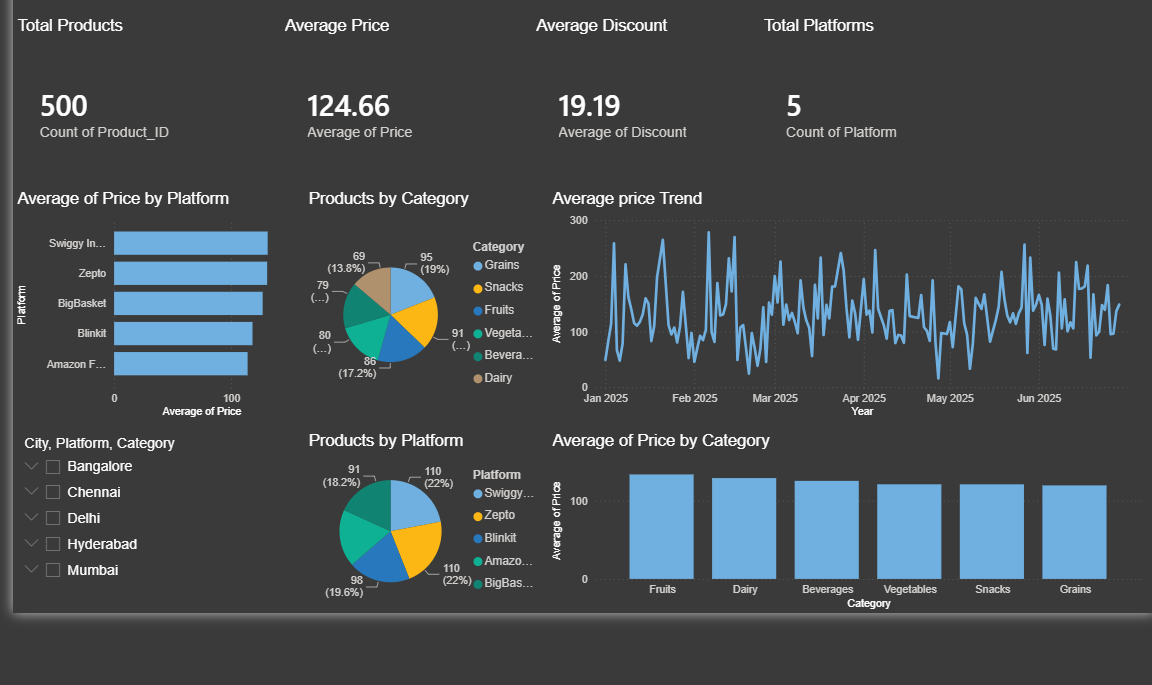

This screenshot's page, from the dashboard's own definition file:
{"tool":"powerbi","page":{"name":"Page 1","canvas":[1280,720],"ordinal":0},"visuals":[{"type":"cardVisual","title":"Total Products","fields":{"Data":["CountNonNull(cleaned_grocery_prices.Product_ID)"]},"box":[0,49.4,255.2,194.9],"z":0},{"type":"cardVisual","title":"Average Price","fields":{"Data":["Avg(cleaned_grocery_prices.Price)"]},"box":[300.5,49.4,281.3,194.9],"z":1000},{"type":"cardVisual","title":"Average Discount","fields":{"Data":["Avg(cleaned_grocery_prices.Discount)"]},"box":[581.8,49.4,264.8,194.9],"z":2000},{"type":"cardVisual","title":"Total Platforms","fields":{"Data":["Count(cleaned_grocery_prices.Platform)"]},"box":[837.1,49.4,293.7,194.9],"z":3000},{"type":"clusteredBarChart","fields":{"Category":["cleaned_grocery_prices.Platform"],"Y":["Avg(cleaned_grocery_prices.Price)"]},"box":[0,244.3,326.6,260.7],"z":4000},{"type":"pieChart","title":"Products by Category","fields":{"Category":["cleaned_grocery_prices.Category"],"Y":["CountNonNull(cleaned_grocery_prices.Product_ID)"]},"box":[326.6,244.3,273.1,260.7],"z":5000},{"type":"lineChart","title":"Average price Trend","fields":{"Y":["Avg(cleaned_grocery_prices.Price)"],"Category":["cleaned_grocery_prices.Date.Variation.Date Hierarchy.Year","cleaned_grocery_prices.Date.Variation.Date Hierarchy.Quarter","cleaned_grocery_prices.Date.Variation.Date Hierarchy.Month","cleaned_grocery_prices.Date.Variation.Date Hierarchy.Day"]},"box":[599.7,244.3,671,260.7],"z":6000},{"type":"slicer","fields":{"Values":["cleaned_grocery_prices.City","cleaned_grocery_prices.Platform","cleaned_grocery_prices.Category"]},"box":[0,514.6,312.9,205.8],"z":7000},{"type":"pieChart","title":"Products by Platform","fields":{"Category":["cleaned_grocery_prices.Platform"],"Y":["CountNonNull(cleaned_grocery_prices.Product_ID)"]},"box":[327,515,273,205],"z":8000},{"type":"clusteredColumnChart","fields":{"Category":["cleaned_grocery_prices.Category"],"Y":["Avg(cleaned_grocery_prices.Price)"]},"box":[600,515,671,205],"z":9000}]}

Visuals, with their boxes on the page's 1280x720 design canvas (x1, y1, x2, y2). These are canvas units, not pixel positions in the 1152x685 screenshot, which may show the page scaled, cropped or inside an application window:
"Total Products" cardVisual: rect(0, 49, 255, 244)
"Average Price" cardVisual: rect(300, 49, 582, 244)
"Average Discount" cardVisual: rect(582, 49, 847, 244)
"Total Platforms" cardVisual: rect(837, 49, 1131, 244)
clusteredBarChart - cleaned_grocery_prices.Platform x Avg(cleaned_grocery_prices.Price): rect(0, 244, 327, 505)
"Products by Category" pieChart: rect(327, 244, 600, 505)
"Average price Trend" lineChart: rect(600, 244, 1271, 505)
slicer - cleaned_grocery_prices.City x cleaned_grocery_prices.Platform: rect(0, 515, 313, 720)
"Products by Platform" pieChart: rect(327, 515, 600, 720)
clusteredColumnChart - cleaned_grocery_prices.Category x Avg(cleaned_grocery_prices.Price): rect(600, 515, 1271, 720)
